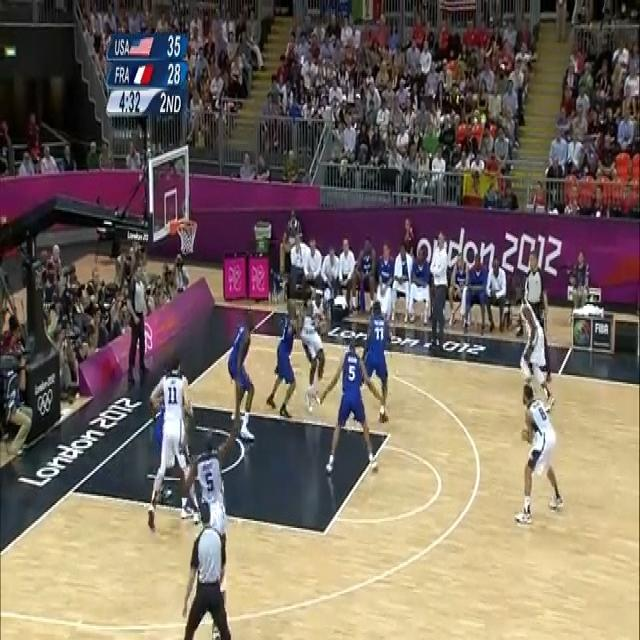basketball: (320, 320, 328, 338)
hoop: (178, 217, 196, 256)
person: (516, 377, 564, 527), (321, 331, 371, 473), (146, 363, 192, 511), (225, 316, 252, 428), (268, 322, 298, 418), (339, 237, 357, 311)
